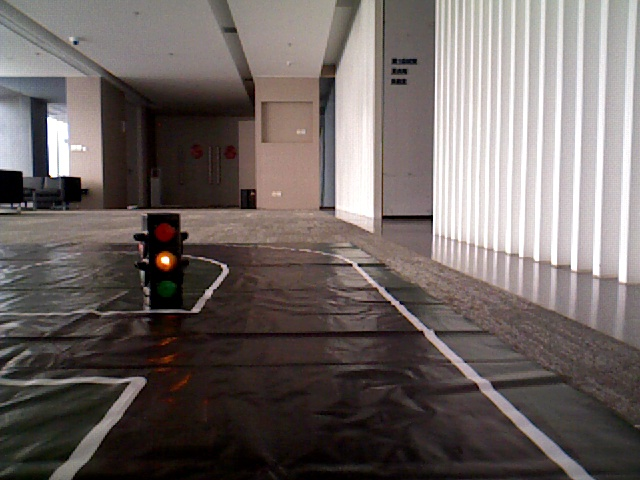yellow: (147, 216, 178, 300)
